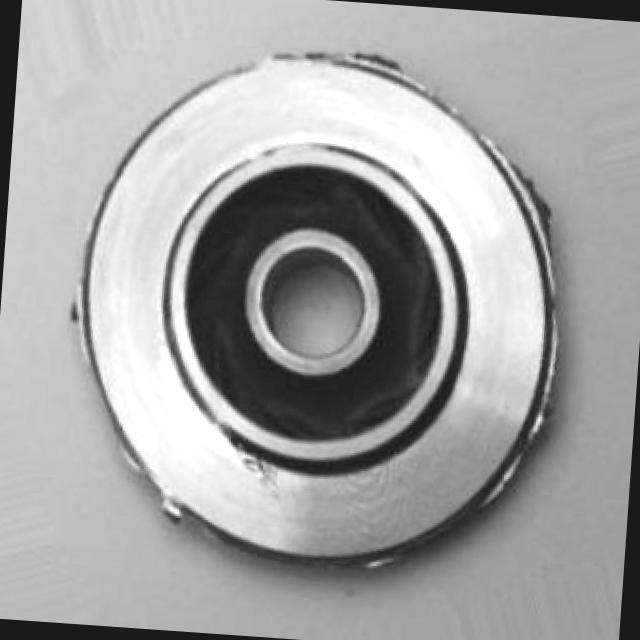Defect: (214, 434, 288, 491)
